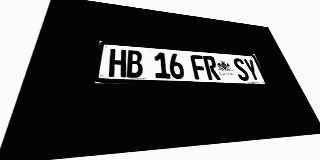1: (153, 52, 171, 79)
6: (168, 53, 185, 79)
B: (126, 50, 143, 78)
F: (190, 55, 208, 80)
H: (108, 49, 126, 77)
R: (202, 55, 221, 80)
S: (232, 58, 251, 81)
Y: (242, 58, 262, 81)
